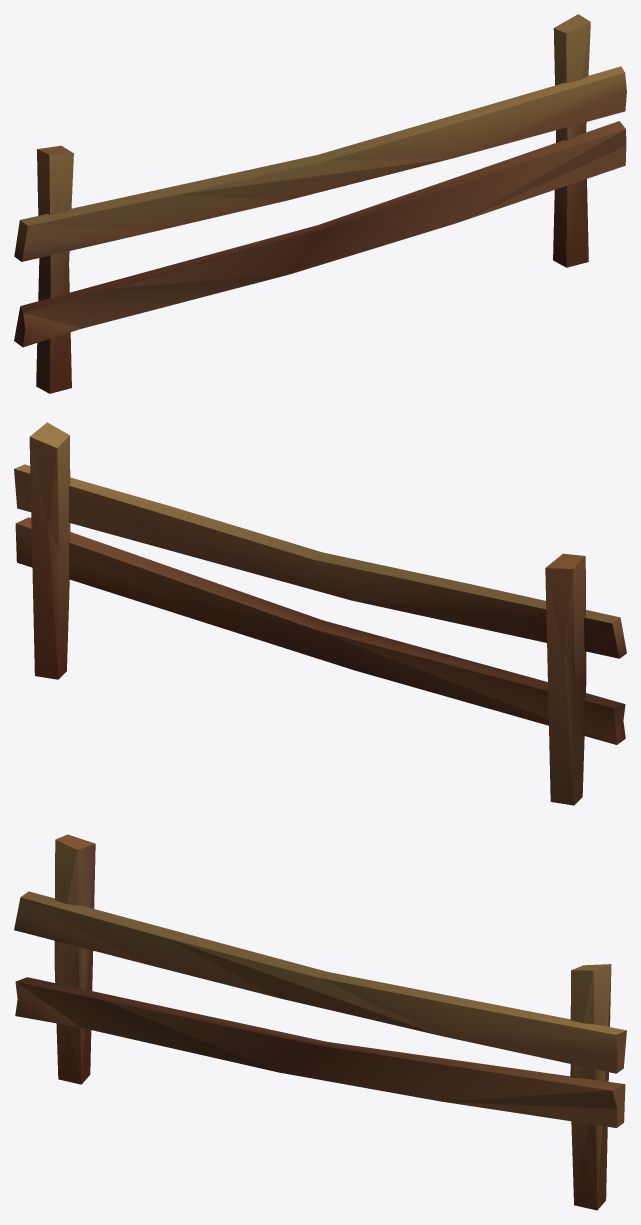
The model's file is MS_Fence 1.fbx.
3 views of the same model, one above another, from view 1: azimuth 30°, elevation 25°; view 2: azimuth 150°, elevation 25°; view 3: azimuth 330°, elevation 25° (orthographic).
Parts seen in each view (by area): view 1: MS_Fence; view 2: MS_Fence; view 3: MS_Fence.
Part boxes in pixels (left/top/right/bottom): MS_Fence: left=14, top=14, right=626, bottom=393; MS_Fence: left=14, top=422, right=626, bottom=805; MS_Fence: left=14, top=834, right=626, bottom=1210.
Bounding box in the file's own units: 221 × 84.39 × 15.5.
